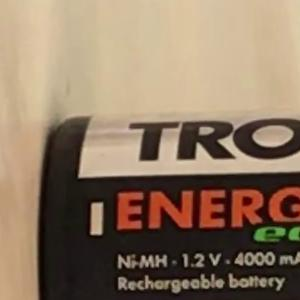keyword: (109, 246, 164, 278)
